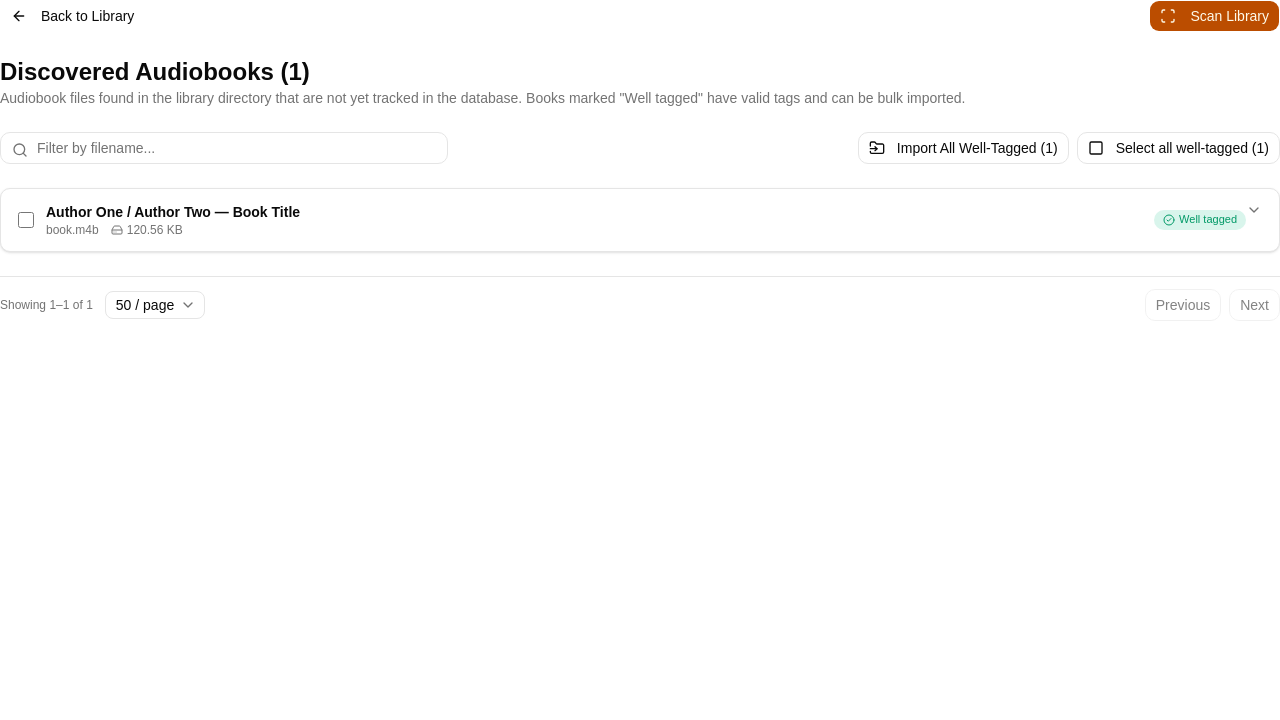
Test: DiscoveredAudiobooks › populates description and copyright from the discovered DTO
Click the text "Book Title": (173, 212) [46,204,300,220]
(page scrolled)
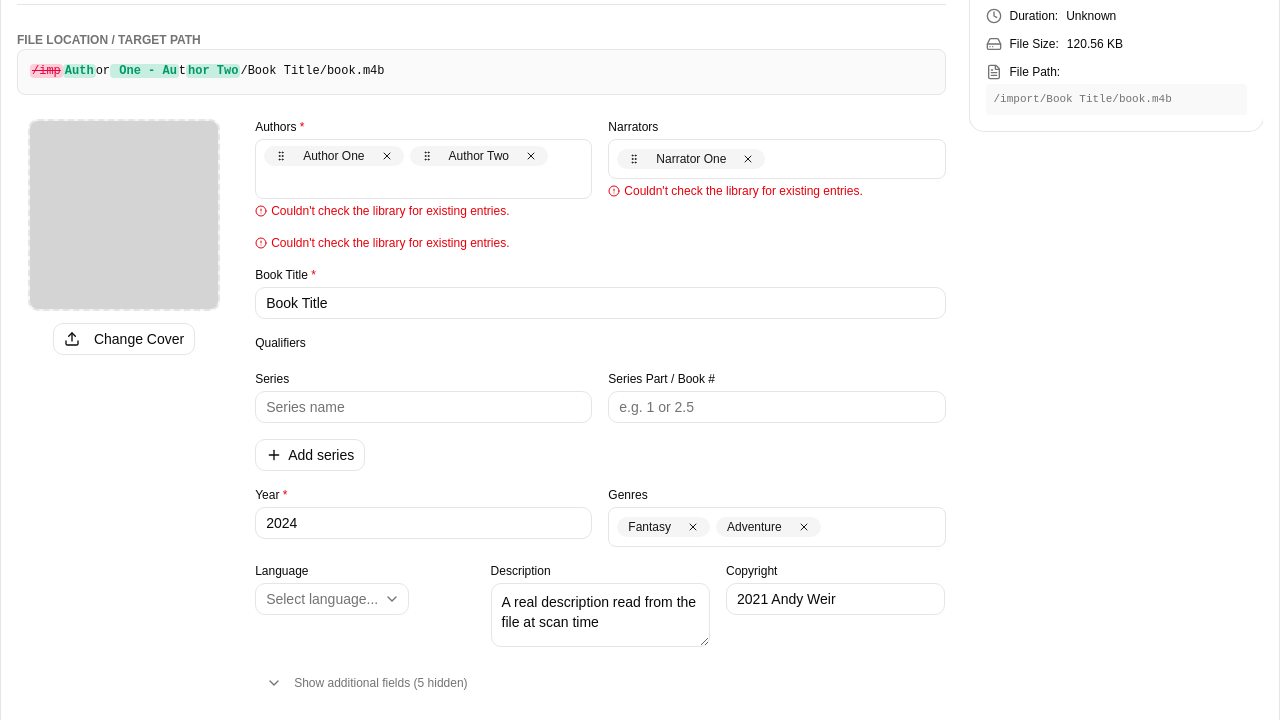
expect the text box showing "A real description read from the file at scan time" is shown: met, box [491,582,710,646]
expect the field showing "2021 Andy Weir" below "Copyright" is shown: met, box [726,582,946,614]
